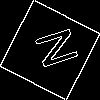N: (25, 25, 79, 74)
